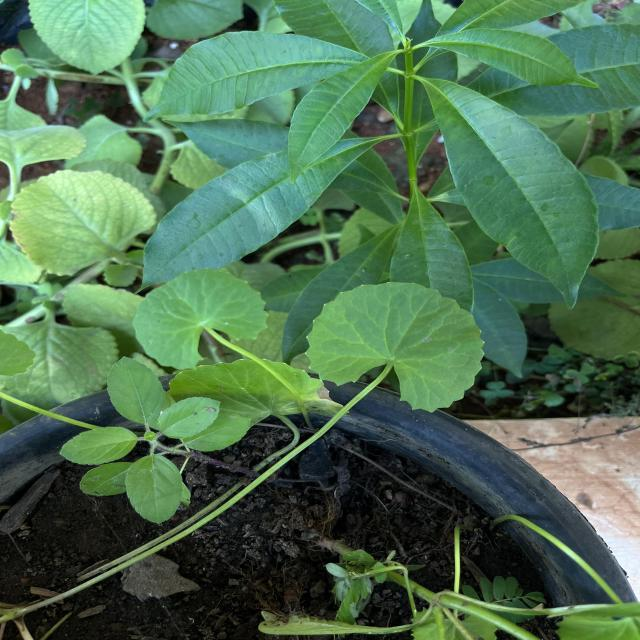Centella asiatica: (300, 277, 490, 417)
